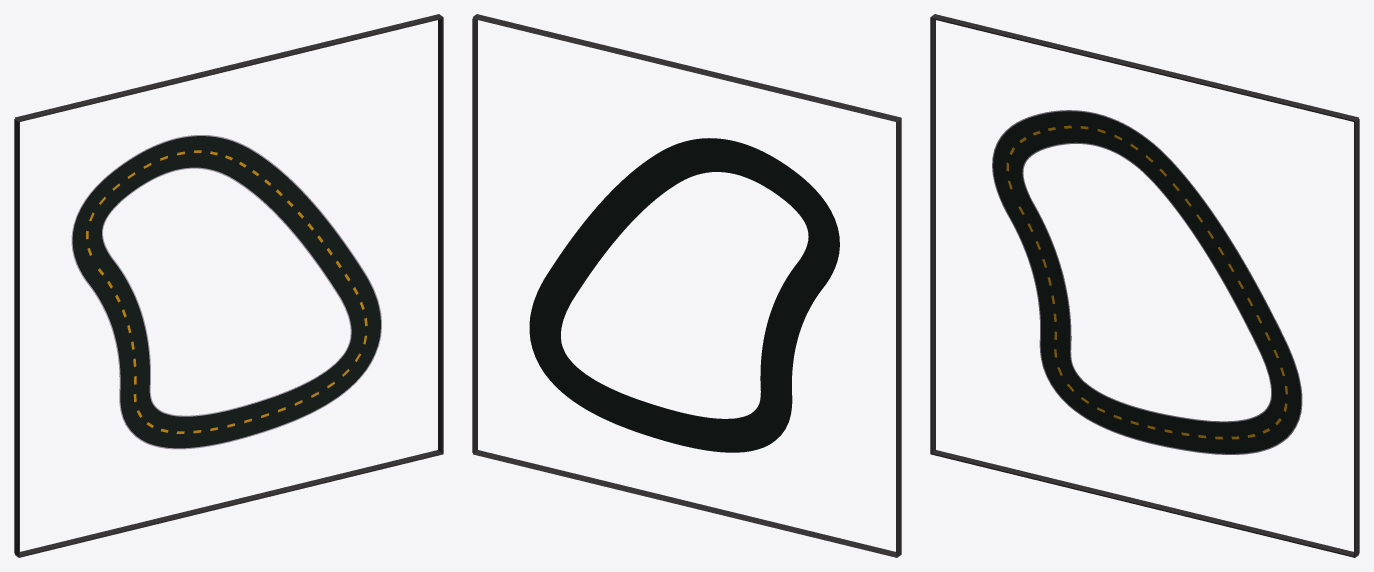
Rendered from track.obj.
3 renders of one model, left to right at view 1: azimuth 30°, elevation 25°; view 2: azimuth 150°, elevation 25°; view 3: azimuth 330°, elevation 25°, orthographic.
Bounding box in the file's own units: 16.29 × 16.01 × 0.3.
4 materials, 4 textured.
